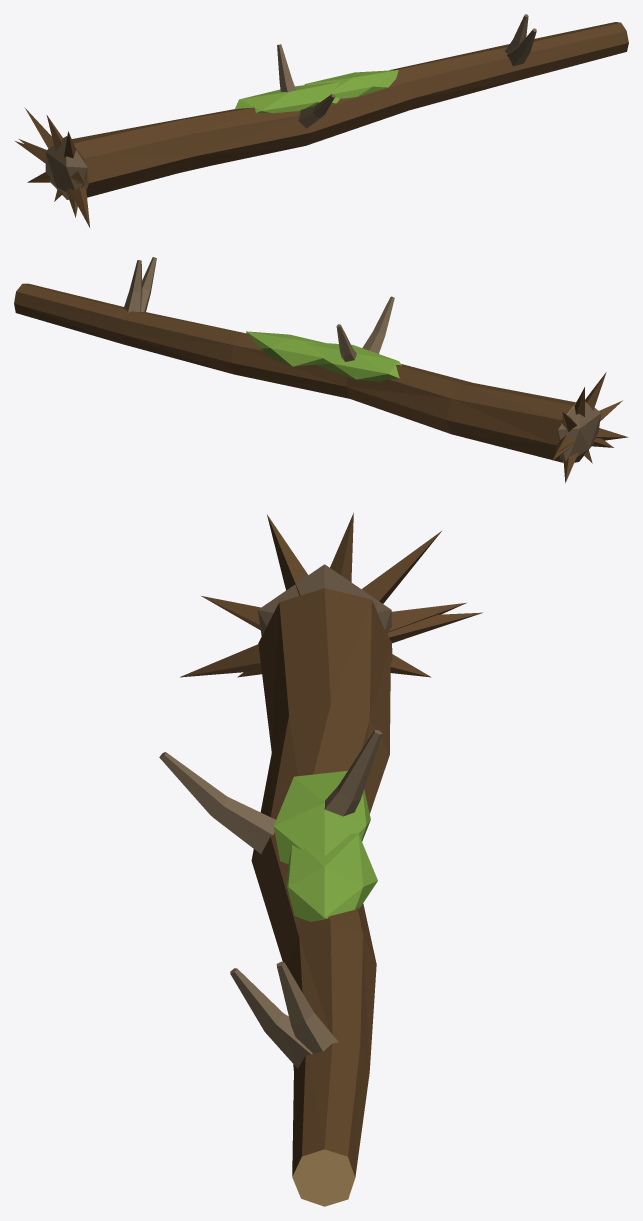
File: HS_LP_Tree_Fallen_01.fbx
The picture shows the model from 3 angles, top to bottom: view 1: azimuth 30°, elevation 25°; view 2: azimuth 150°, elevation 25°; view 3: azimuth 270°, elevation 25°; orthographic projection. The views are drawn at different scales.
Visible parts, largest first — view 1: HS_LP_Tree_Fallen_01; view 2: HS_LP_Tree_Fallen_01; view 3: HS_LP_Tree_Fallen_01.
Part boxes in pixels (x1=…): HS_LP_Tree_Fallen_01: x1=15, y1=14, x2=628, y2=228; HS_LP_Tree_Fallen_01: x1=14, y1=257, x2=628, y2=483; HS_LP_Tree_Fallen_01: x1=159, y1=512, x2=482, y2=1206.
Bounding box in the file's own units: 561 × 87.79 × 139.
